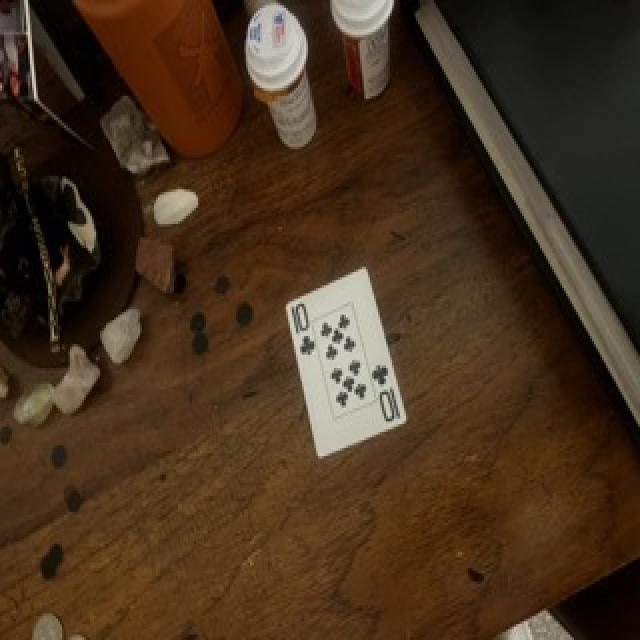10 of clubs: (286, 268, 406, 457)
